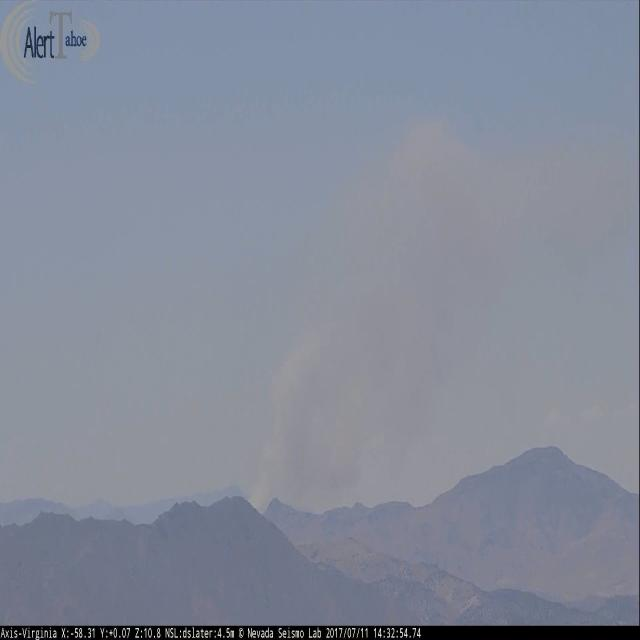smoke: (248, 116, 640, 519)
